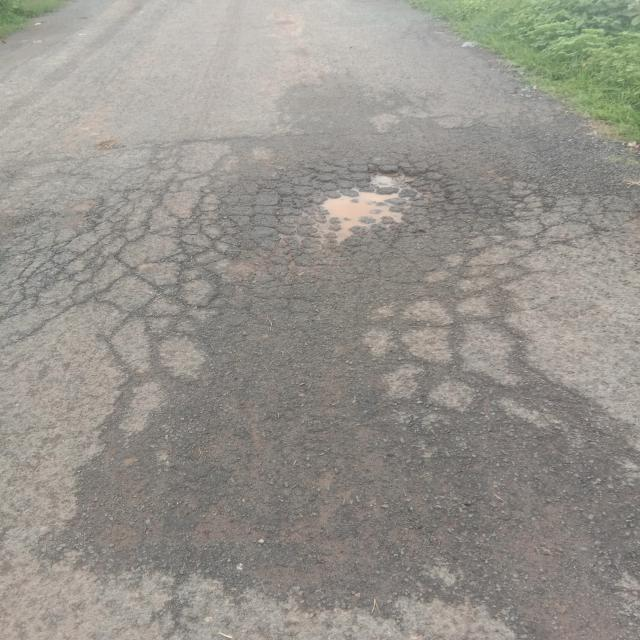potholes: (304, 162, 463, 248)
